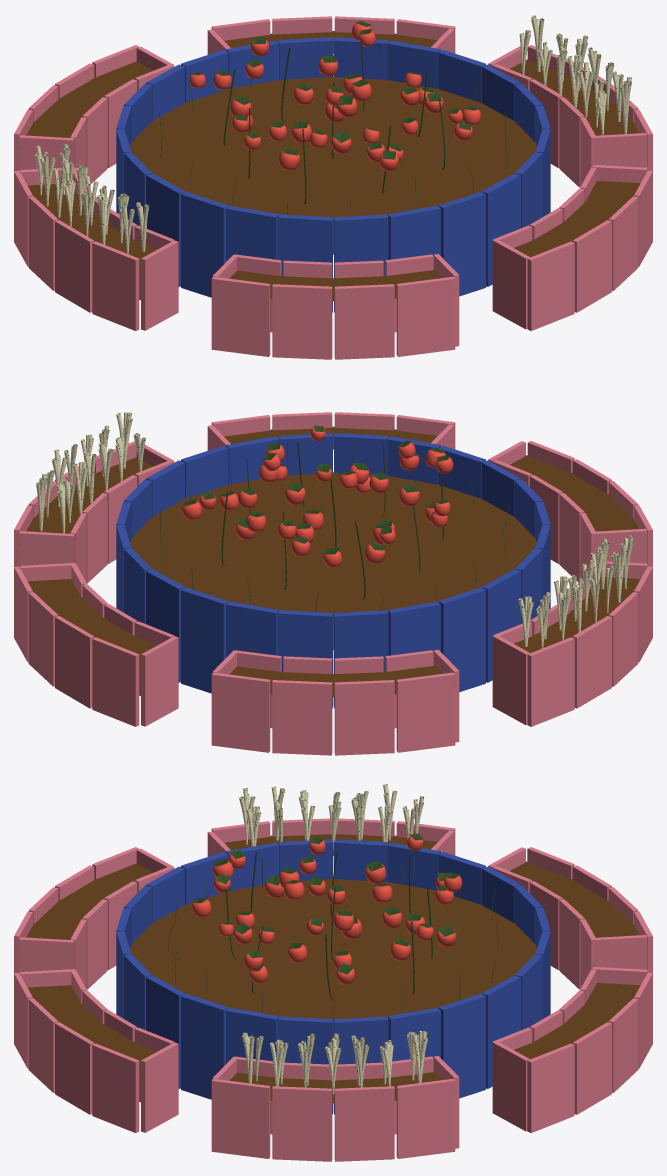
Rendered from EXP_garden.glb.
3 views of the same model, one above another, from view 1: azimuth 30°, elevation 25°; view 2: azimuth 150°, elevation 25°; view 3: azimuth 270°, elevation 25° (orthographic).
Visible parts, largest first — view 1: Garden; view 2: Garden; view 3: Garden.
Boxes of the visible parts, x1,y1,x2,y2 form: Garden: (14, 15, 652, 359); Garden: (14, 412, 652, 755); Garden: (14, 784, 652, 1161).
Size of the model in its own units: 2.37 by 0.6084 by 2.35.
Materials: 13 (7 with a texture image).
